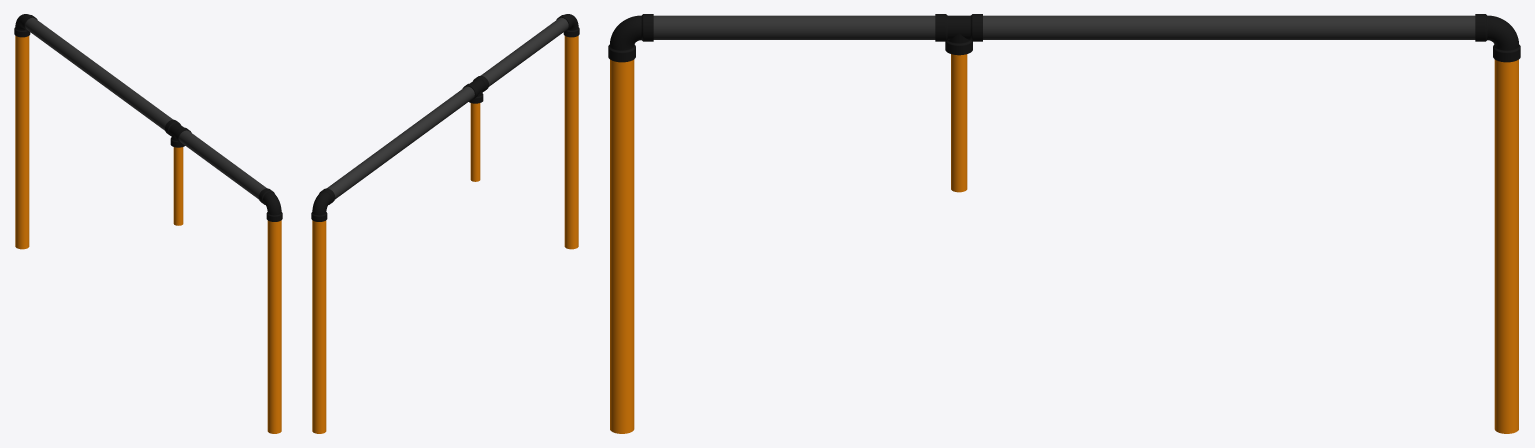
Rendered from gate.fbx.
3 views of the same model, side by side, from view 1: azimuth 30°, elevation 25°; view 2: azimuth 150°, elevation 25°; view 3: azimuth 270°, elevation 25° (orthographic). The views are drawn at different scales.
Parts seen in each view (by area): view 1: Body_1, Body_1_6, Body_1_3, Body_1_5, Body_1_2, Body_1_4, Body_1_7; view 2: Body_1, Body_1_3, Body_1_6, Body_1_5, Body_1_7, Body_1_4, Body_1_2; view 3: Body_1, Body_1_3, Body_1_6, Body_1_5, Body_1_4, Body_1_2, Body_1_7.
Boxes of the visible parts, x1,y1,x2,y2 form: Body_1: (25,17,266,199); Body_1_6: (15,36,29,249); Body_1_3: (267,220,281,433); Body_1_5: (173,147,183,225); Body_1_2: (258,188,282,221); Body_1_4: (165,119,191,147); Body_1_7: (14,14,37,37); Body_1: (327,17,568,199); Body_1_3: (564,36,578,249); Body_1_6: (312,220,326,433); Body_1_5: (470,103,480,181); Body_1_7: (311,188,335,221); Body_1_4: (462,75,488,103); Body_1_2: (556,14,579,37); Body_1: (653,15,1475,39); Body_1_3: (610,59,634,433); Body_1_6: (1494,59,1518,433); Body_1_5: (951,54,967,192); Body_1_4: (935,14,982,55); Body_1_2: (608,14,653,62); Body_1_7: (1475,14,1520,62).
Size of the model in its own units: 0.1005 by 3.3 by 1.65.
